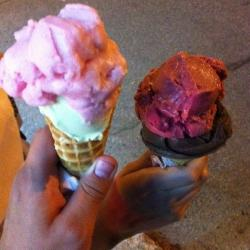icecream: (7, 7, 135, 144), (138, 47, 224, 156)
